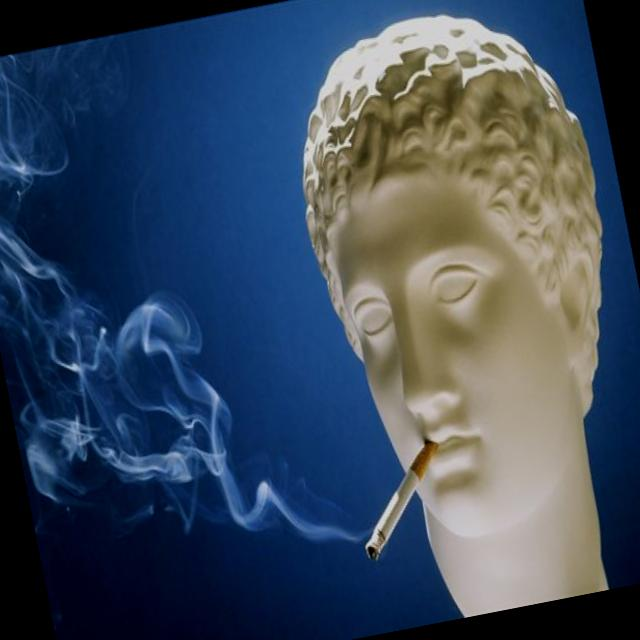smoke: (346, 440, 448, 567)
